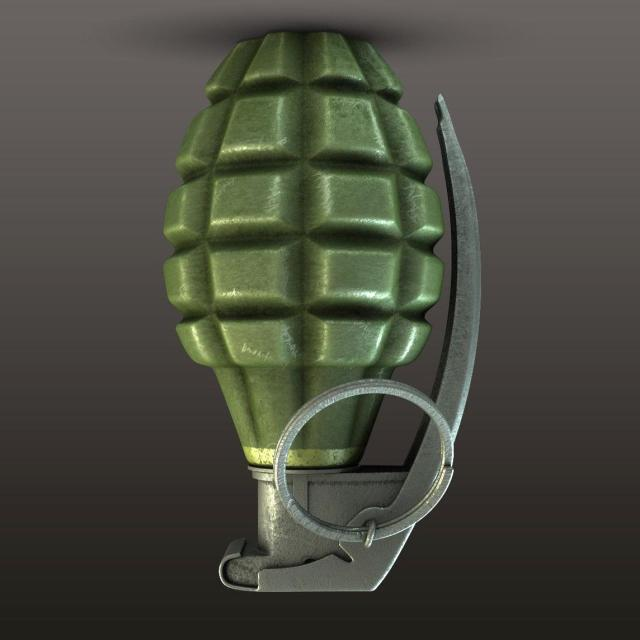grenade: (165, 30, 481, 595)
